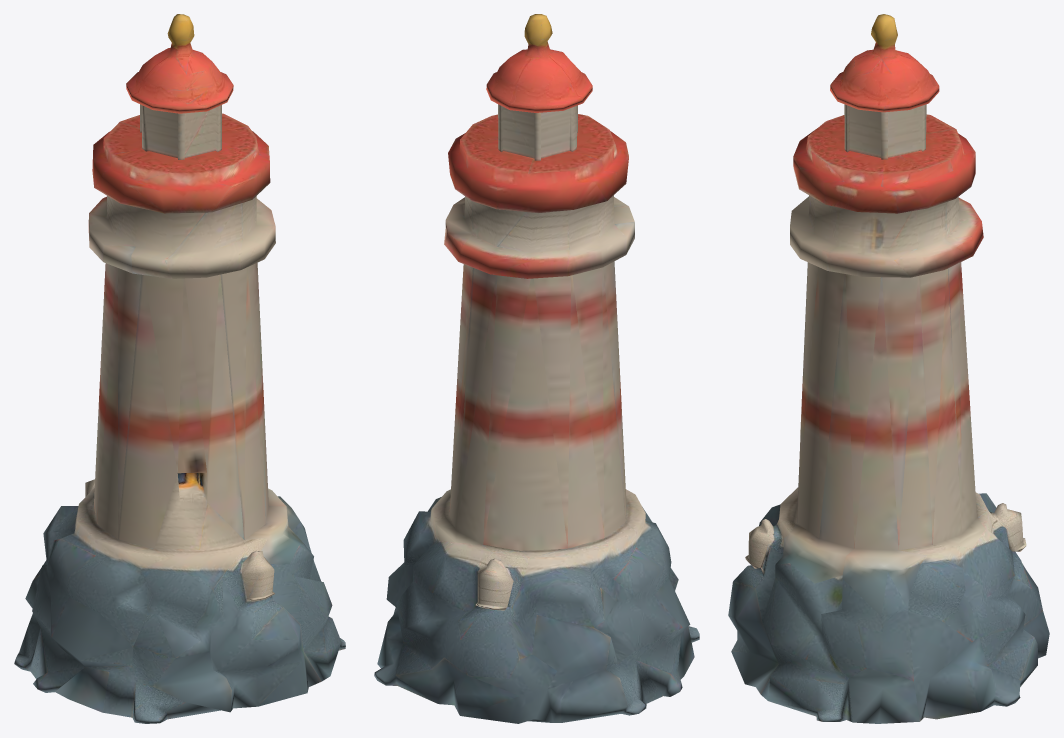
The model's file is lighthouse.glb.
The picture shows the model from 3 angles, left to right: view 1: azimuth 30°, elevation 25°; view 2: azimuth 150°, elevation 25°; view 3: azimuth 270°, elevation 25°; orthographic projection.
Bounding box in the file's own units: 0.436 × 0.9517 × 0.4327.
1 material, 1 textured.
